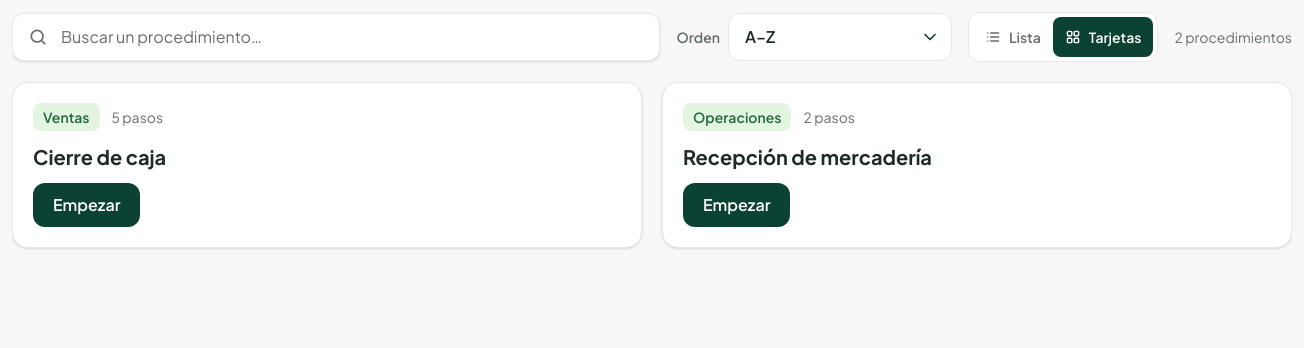
Scenario: errors when starting › 404 → the procedure is not available, and the buttons work again
Click the button "Empezar" below "Ventas" at (87, 205), box [33, 183, 140, 227]
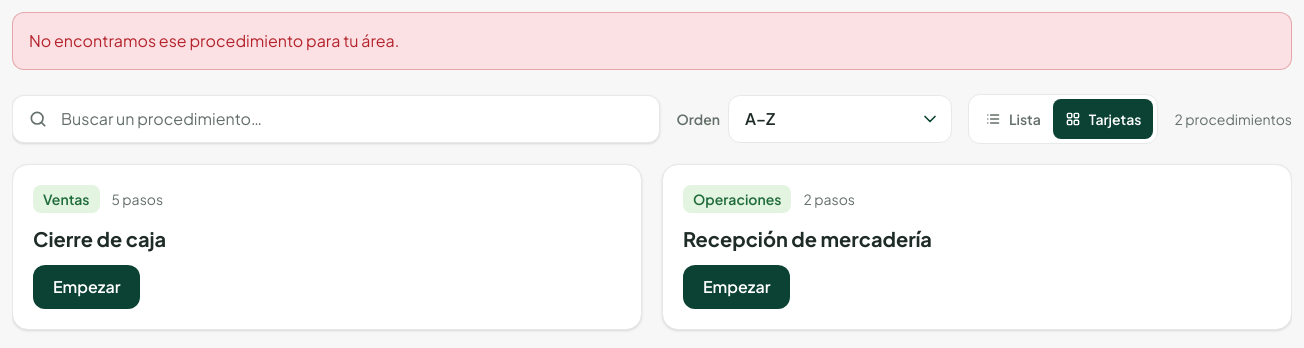
Expected: the button "Empezar" below "Ventas" is enabled, [33, 265, 140, 309]
Expected: the message reads "No encontramos ese procedimiento para tu área.", [29, 30, 399, 51]
